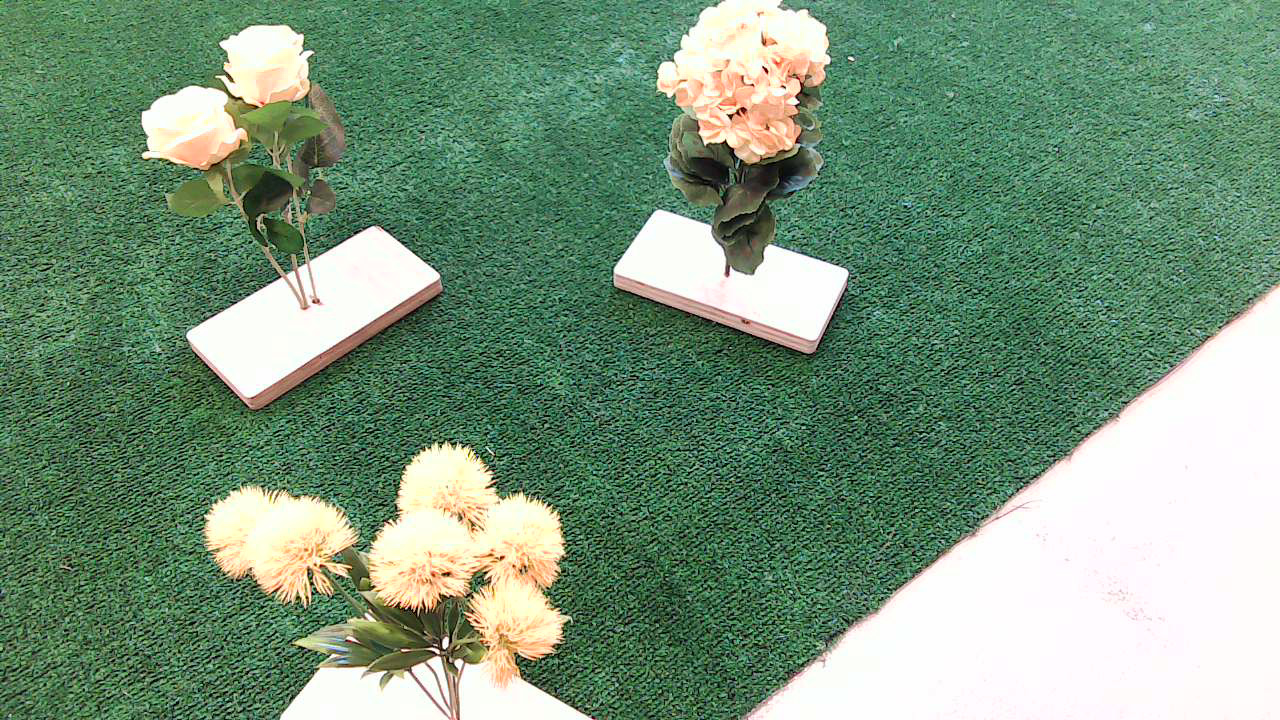dandelion: (178, 451, 621, 704)
geranium: (629, 6, 846, 300)
rose: (114, 28, 375, 276)
